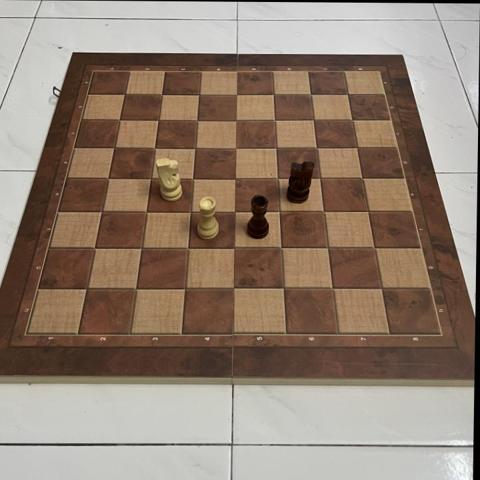xcorner: (227, 86, 245, 104), (186, 139, 204, 157), (105, 139, 123, 157), (315, 202, 333, 220), (132, 239, 150, 257), (85, 239, 103, 257), (324, 279, 342, 297), (190, 86, 207, 104), (153, 86, 170, 104), (344, 111, 361, 129), (305, 111, 322, 129), (266, 111, 283, 129), (188, 112, 206, 129), (149, 112, 167, 129), (267, 139, 285, 156), (227, 139, 244, 157), (146, 139, 163, 157), (312, 169, 329, 187), (269, 169, 286, 187), (227, 169, 244, 187), (184, 169, 201, 187), (99, 170, 117, 187), (360, 202, 377, 220), (271, 202, 288, 220), (226, 203, 244, 220), (137, 203, 155, 220), (226, 239, 243, 257), (179, 239, 196, 257), (374, 279, 391, 297), (176, 280, 194, 297), (77, 280, 95, 297), (339, 86, 356, 103), (302, 86, 319, 103), (265, 86, 282, 103), (116, 87, 133, 104), (227, 112, 244, 129), (111, 112, 128, 129), (349, 139, 366, 156), (308, 139, 325, 156), (354, 169, 371, 186), (142, 170, 159, 187), (182, 203, 199, 220), (93, 203, 110, 220), (367, 239, 384, 256), (320, 239, 337, 256), (273, 239, 290, 256), (275, 280, 292, 297), (226, 280, 243, 297), (127, 280, 144, 297)
